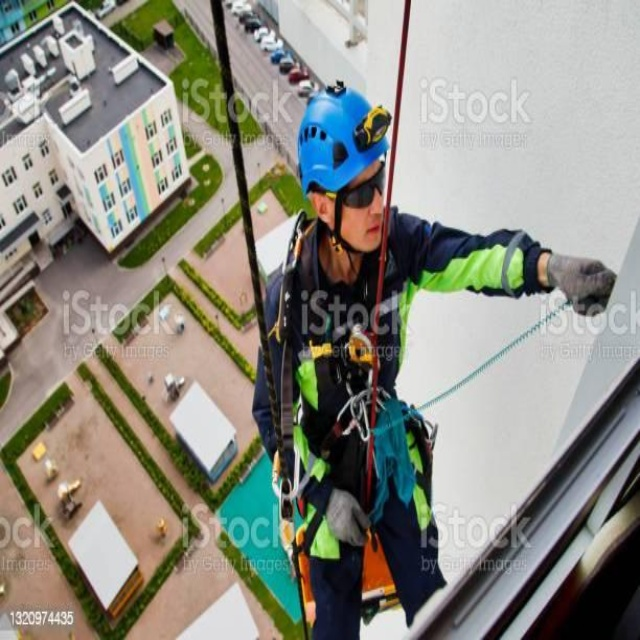Arnes_seguridad: (262, 201, 434, 564)
